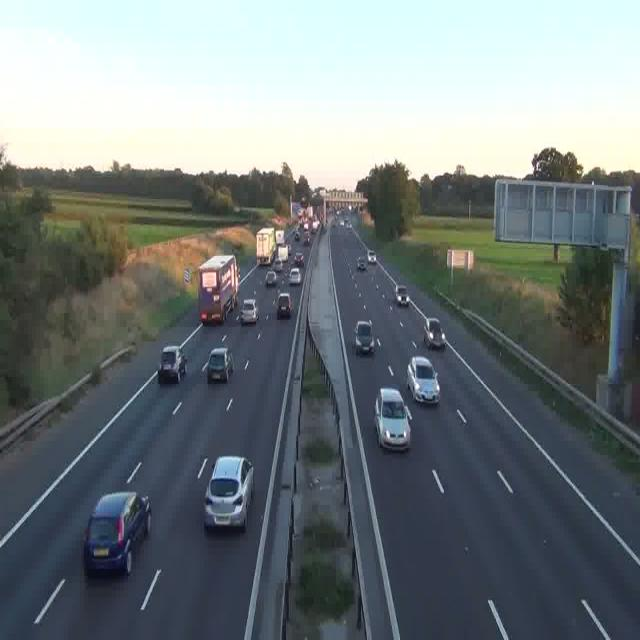car: (83, 492, 151, 576), (204, 456, 253, 530), (375, 388, 410, 450), (407, 354, 439, 404), (158, 346, 186, 384), (206, 347, 233, 382), (424, 318, 446, 350), (354, 320, 374, 354), (240, 298, 258, 324), (276, 294, 292, 318), (393, 285, 409, 306), (264, 270, 278, 287), (289, 268, 301, 286), (357, 256, 367, 272), (294, 252, 304, 266), (366, 251, 376, 265)
truck: (198, 253, 238, 322), (258, 227, 278, 266)
